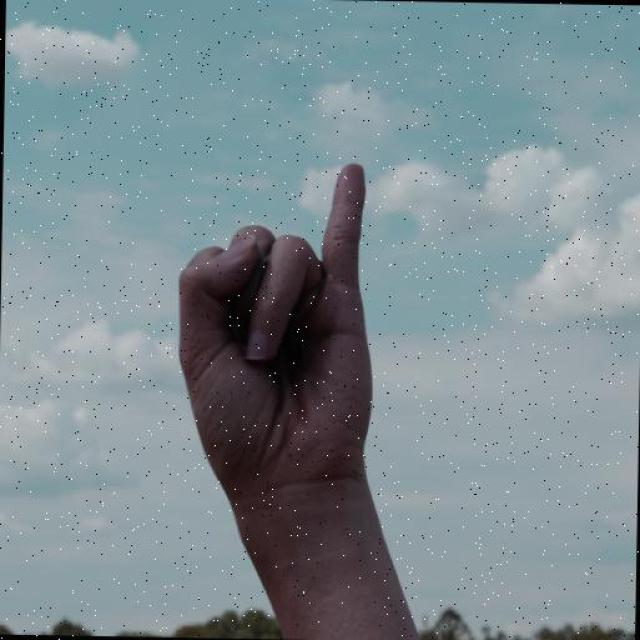I: (164, 153, 402, 565)
